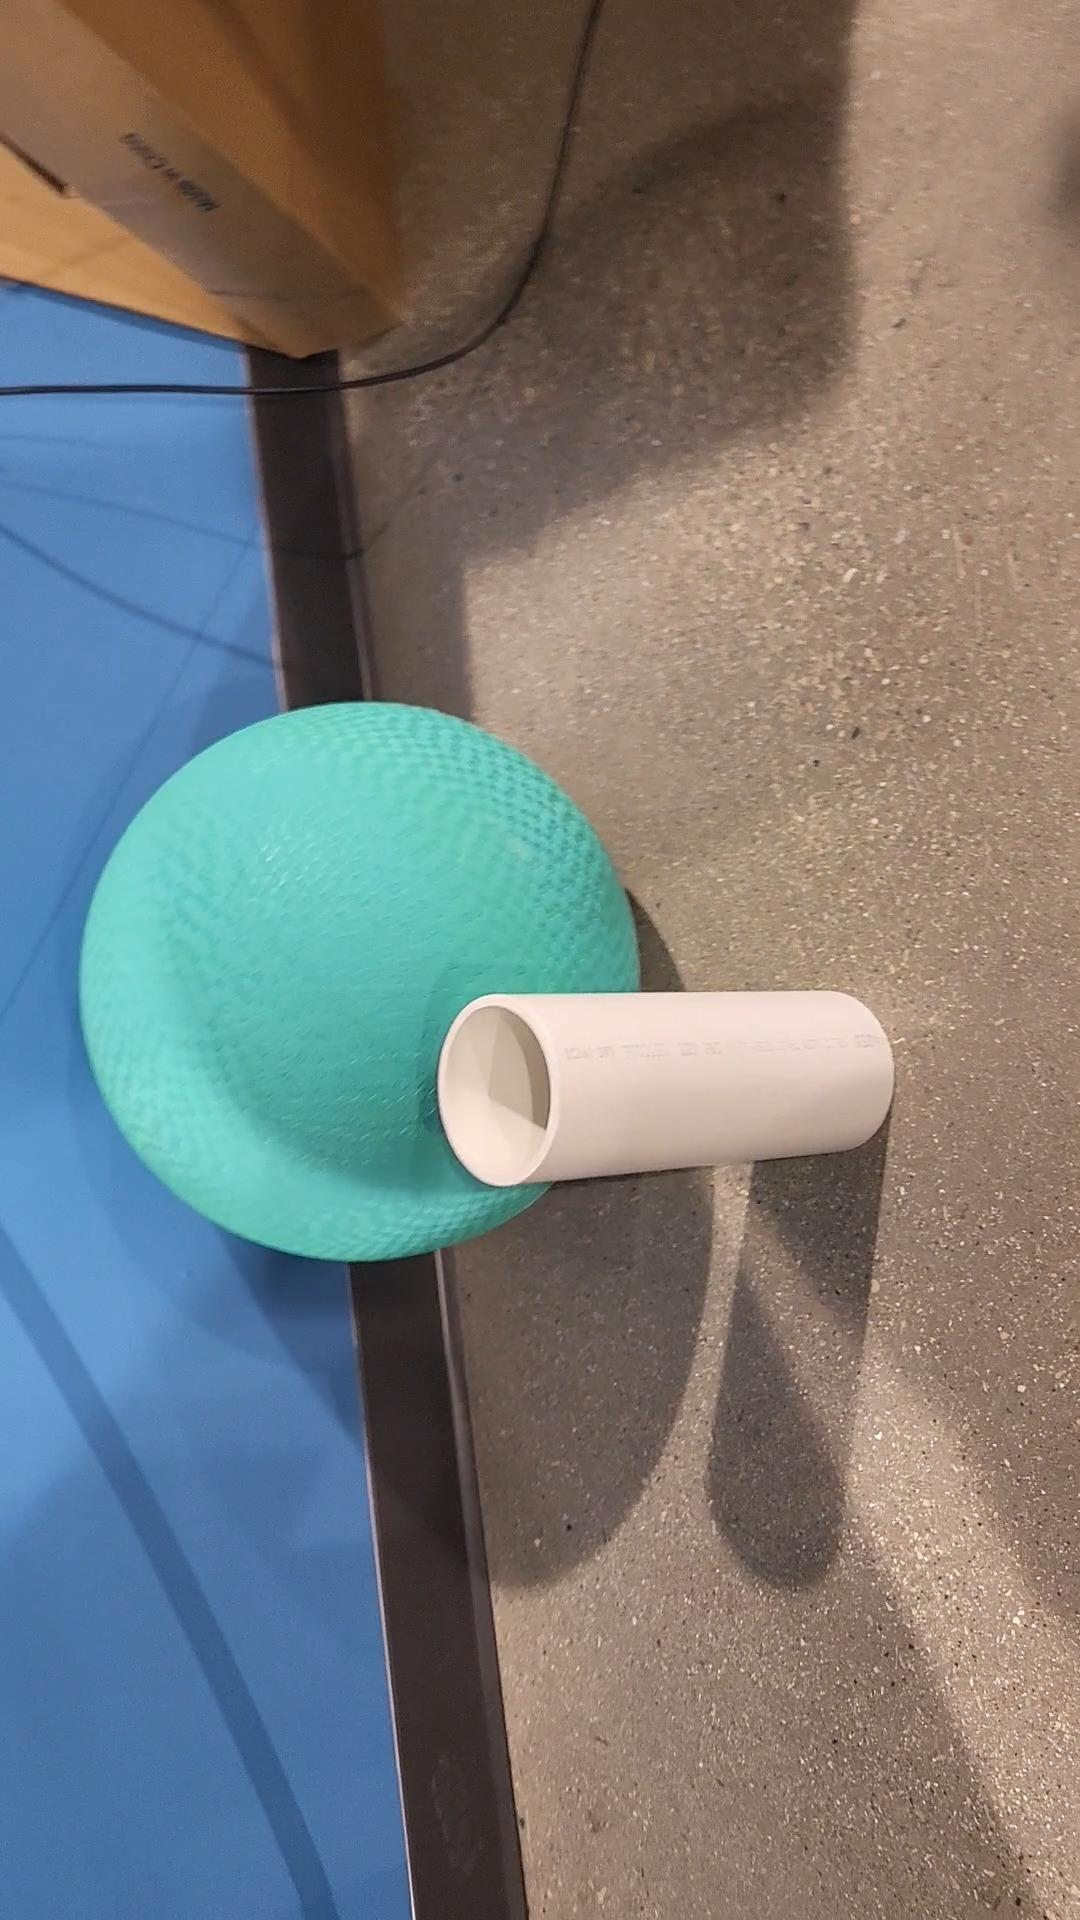algae: (84, 703, 637, 1258)
coral: (438, 993, 895, 1188)
